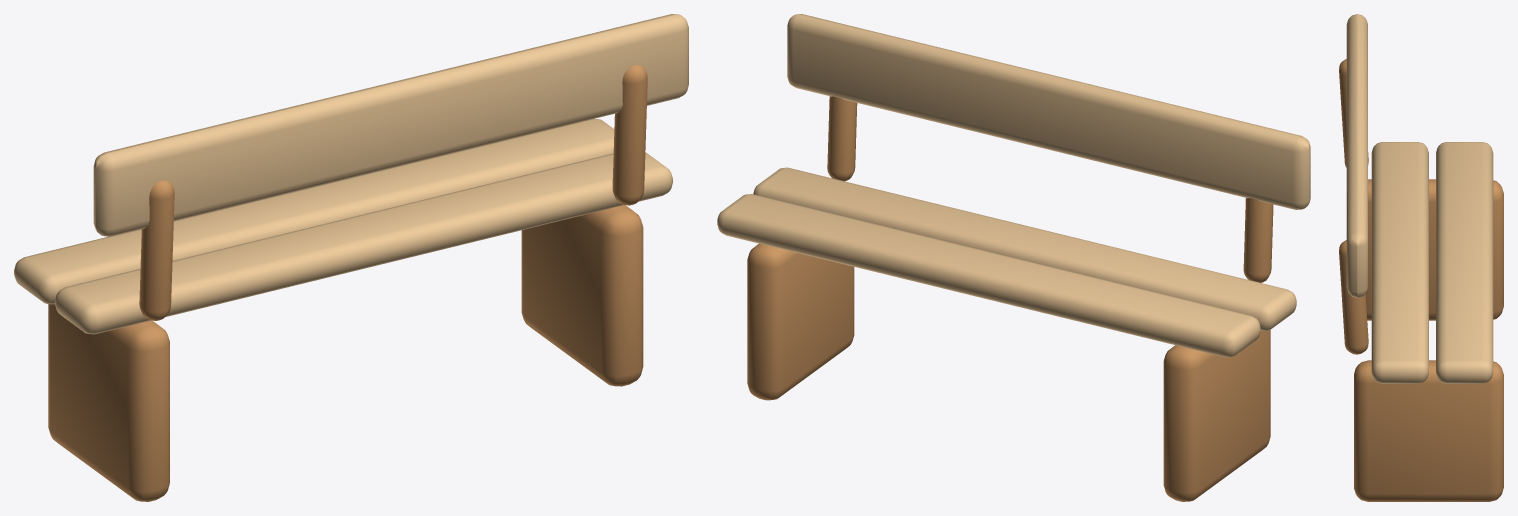
Rendered from hub_bench.glb.
3 renders of one model, left to right at view 1: azimuth 30°, elevation 25°; view 2: azimuth 150°, elevation 25°; view 3: azimuth 270°, elevation 25°, orthographic. The views are drawn at different scales.
Visible parts, largest first — view 1: HubBench; view 2: HubBench; view 3: HubBench.
Part boxes in pixels (box(x1,y1,x2,y2)): HubBench: box(14, 14, 688, 501); HubBench: box(717, 14, 1310, 501); HubBench: box(1339, 14, 1503, 501).
Size of the model in its own units: 1.5 by 0.88 by 0.4612.
